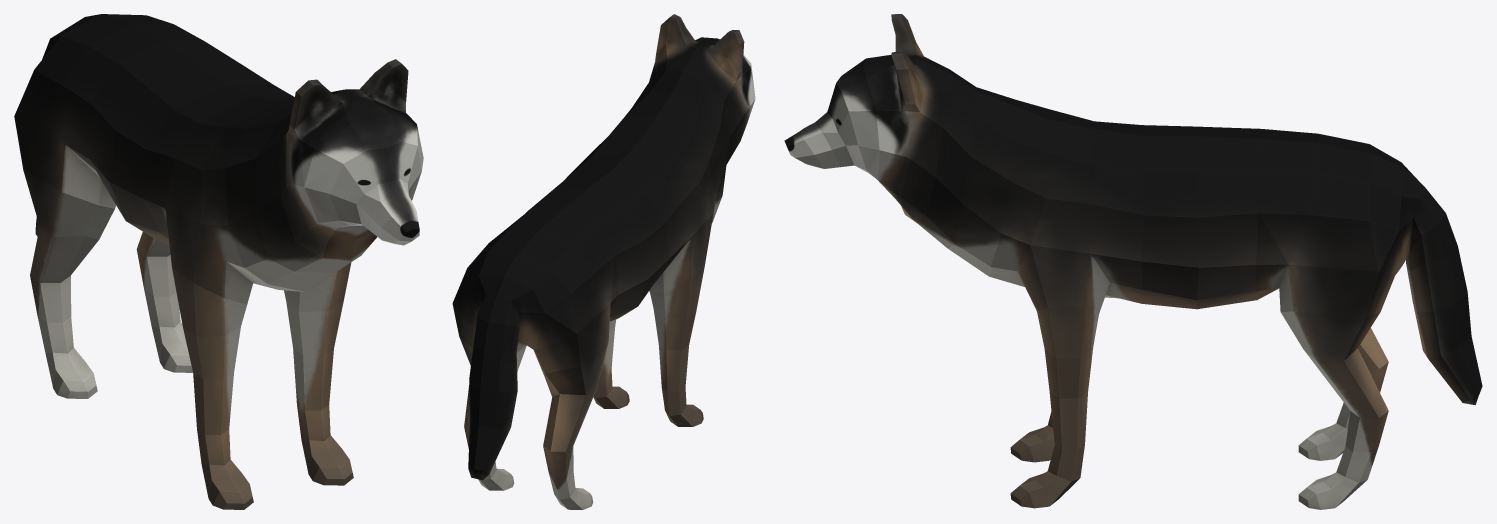
The model's file is wolf.obj.
3 renders of one model, left to right at view 1: azimuth 30°, elevation 25°; view 2: azimuth 150°, elevation 25°; view 3: azimuth 270°, elevation 25°, orthographic. The views are drawn at different scales.
Parts seen in each view (by area): view 1: Wolves_Mesh; view 2: Wolves_Mesh; view 3: Wolves_Mesh.
Part boxes in pixels (x1=…): Wolves_Mesh: x1=14, y1=14, x2=423, y2=509; Wolves_Mesh: x1=452, y1=14, x2=755, y2=509; Wolves_Mesh: x1=784, y1=14, x2=1482, y2=509.
Size of the model in its own units: 2.6 by 6.75 by 9.65.
1 material, 1 textured.
